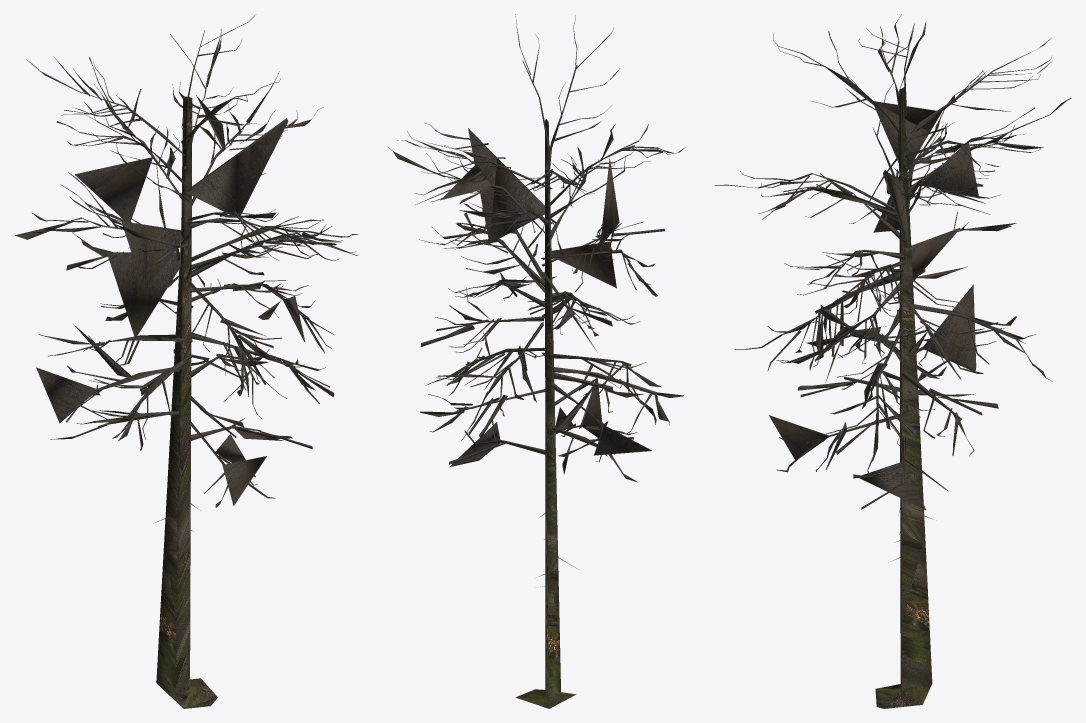
Rendered from pine_b.glb.
3 renders of one model, left to right at view 1: azimuth 30°, elevation 25°; view 2: azimuth 150°, elevation 25°; view 3: azimuth 270°, elevation 25°, orthographic. The views are drawn at different scales.
Parts seen in each view (by area): view 1: pine_b; view 2: pine_b; view 3: pine_b.
Boxes of the visible parts, x1=… form: pine_b: x1=14, y1=14, x2=358, y2=708; pine_b: x1=388, y1=14, x2=685, y2=708; pine_b: x1=714, y1=14, x2=1071, y2=708.
Bounding box in the file's own units: 3.88 × 9.11 × 4.22.
Materials: 3 (3 with a texture image).
